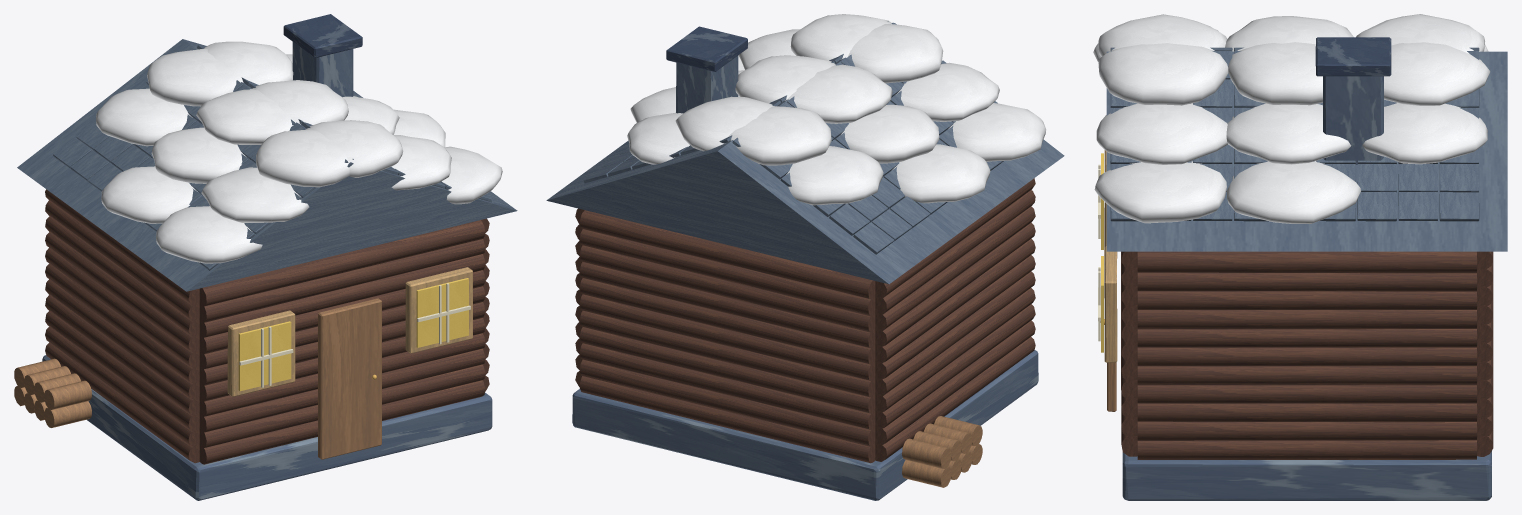
File: cabin.glb
The picture shows the model from 3 angles, left to right: view 1: azimuth 30°, elevation 25°; view 2: azimuth 150°, elevation 25°; view 3: azimuth 270°, elevation 25°; orthographic projection. The views are drawn at different scales.
Visible parts, largest first — view 1: cabin; view 2: cabin; view 3: cabin.
Boxes of the visible parts, x1,y1,x2,y2 form: cabin: [14, 14, 517, 500]; cabin: [546, 14, 1064, 500]; cabin: [1093, 14, 1507, 500].
Bounding box in the file's own units: 4.76 × 4.39 × 4.03.
1 material, 1 textured.
